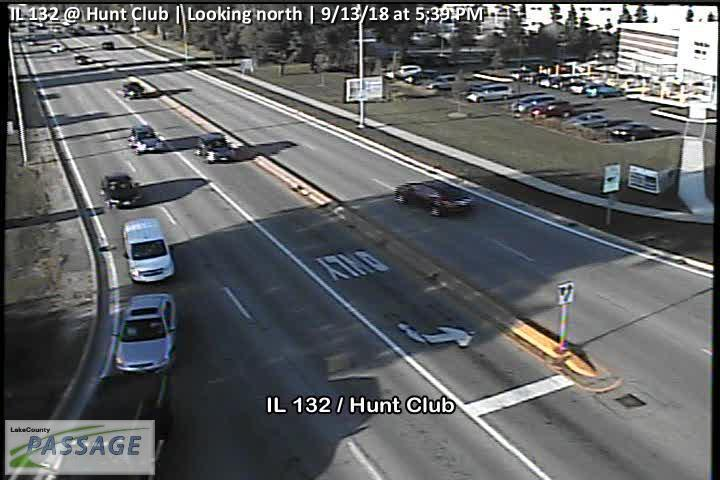SUV: (123, 217, 175, 282), (195, 132, 233, 163), (128, 125, 164, 156), (512, 94, 561, 113), (467, 84, 513, 102), (530, 100, 574, 118), (405, 68, 440, 85), (426, 74, 461, 90), (395, 64, 422, 78)
Sedan: (114, 292, 177, 376), (395, 180, 474, 217), (102, 172, 143, 209), (608, 122, 656, 140), (568, 112, 610, 128), (122, 82, 144, 98), (74, 55, 93, 64), (50, 43, 64, 54), (102, 41, 113, 50)
